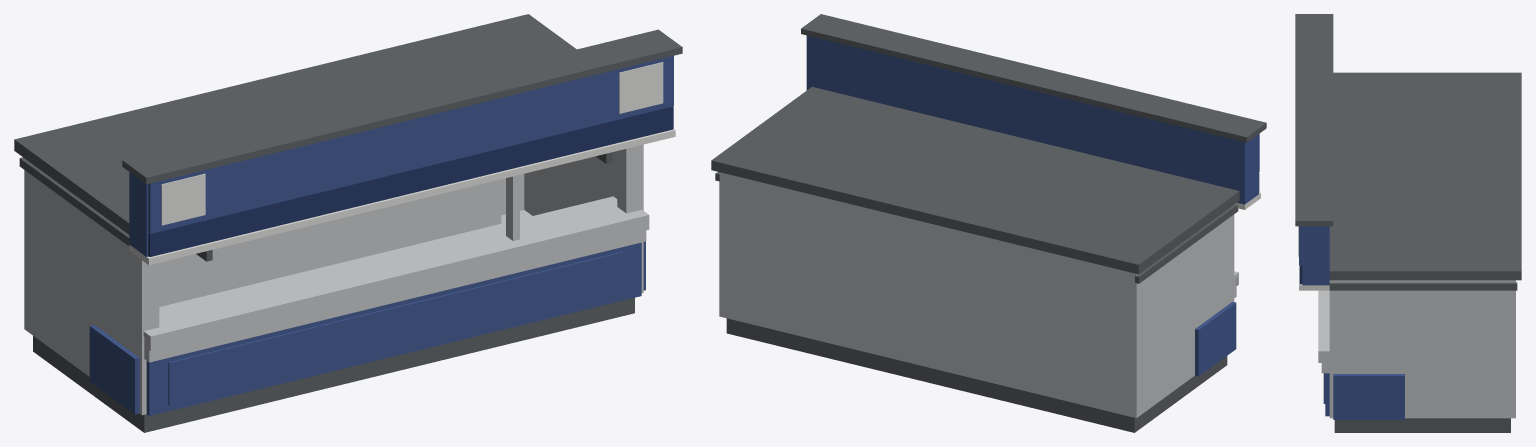
File: greek-gyros-blockout.glb
3 renders of one model, left to right at view 1: azimuth 30°, elevation 25°; view 2: azimuth 150°, elevation 25°; view 3: azimuth 270°, elevation 25°, orthographic. The views are drawn at different scales.
Visible parts, largest first — view 1: GG_RoofSlab, GG_MainSignSurface, GG_LowerFrontSignSurface, GG_CanopyTopCap, GG_SideWall_Left, GG_ServiceCounter_Top, GG_PrepCounter, GG_MenuStripSurface, GG_BaseSkirt, GG_LowerFrontPanel, GG_MetalCladding_Apron, GG_ServiceCounter_FrontLip (+10 smaller); view 2: GG_RearWall, GG_RoofSlab, GG_SignBoxBody, GG_SideWall_Left, GG_CanopyTopCap, GG_BaseSkirt, GG_LowerSidePanel_Left, GG_SideTrim_Left; view 3: GG_RoofSlab, GG_SideWall_Right, GG_CanopyTopCap, GG_LowerSidePanel_Right, GG_BaseSkirt, GG_SideTrim_Right, GG_SignBoxBody, GG_RearWall, GG_FrontJamb_Right, GG_ServiceCounter_Top.
Boxes of the visible parts, x1,y1,x2,y2 form: GG_RoofSlab: (14, 14, 576, 234); GG_MainSignSurface: (148, 56, 673, 233); GG_LowerFrontSignSurface: (168, 251, 623, 405); GG_CanopyTopCap: (122, 29, 682, 184); GG_SideWall_Left: (24, 170, 151, 414); GG_ServiceCounter_Top: (143, 196, 649, 341); GG_PrepCounter: (159, 181, 491, 306); GG_MenuStripSurface: (148, 106, 673, 256); GG_BaseSkirt: (33, 297, 634, 432); GG_LowerFrontPanel: (146, 242, 641, 415); GG_MetalCladding_Apron: (144, 230, 646, 362); GG_ServiceCounter_FrontLip: (148, 220, 649, 351); GG_RearWall: (719, 172, 1140, 418); GG_RoofSlab: (711, 87, 1239, 274); GG_SignBoxBody: (806, 35, 1258, 204); GG_SideWall_Left: (1128, 214, 1234, 417); GG_CanopyTopCap: (801, 14, 1266, 142); GG_BaseSkirt: (726, 318, 1227, 432); GG_LowerSidePanel_Left: (1195, 301, 1236, 376); GG_SideTrim_Left: (1135, 204, 1238, 283); GG_RoofSlab: (1329, 72, 1521, 280); GG_SideWall_Right: (1329, 280, 1515, 418); GG_CanopyTopCap: (1295, 14, 1333, 226); GG_LowerSidePanel_Right: (1333, 374, 1404, 419); GG_BaseSkirt: (1334, 418, 1510, 432); GG_SideTrim_Right: (1329, 282, 1517, 290); GG_SignBoxBody: (1302, 226, 1329, 285); GG_RearWall: (1507, 280, 1515, 418); GG_FrontJamb_Right: (1329, 280, 1343, 417); GG_ServiceCounter_Top: (1318, 290, 1329, 355).
Bounding box in the file's own units: 6.84 × 3.4 × 3.16.
